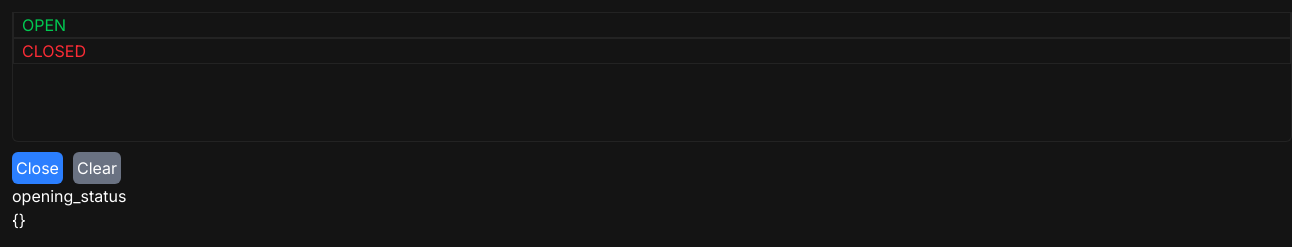
Test: OpeningStatusFilter › should add and remove selected opening status
This screenshot has width=1292, height=247.
Click the text "OPEN". click: click(44, 25)
box: x1=22 y1=13 x2=66 y2=37
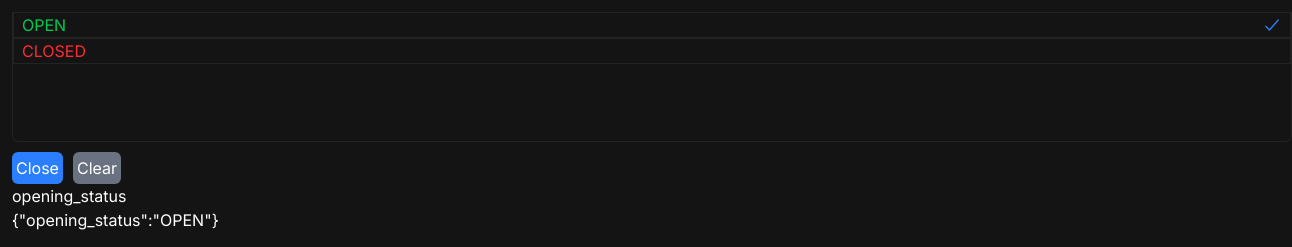
Expected: the text with test id "selected-filters" shows "\"opening_status\":\"OPEN\"", x1=12 y1=210 x2=218 y2=230
Click the text "OPEN". click: click(44, 25)
box: x1=22 y1=13 x2=66 y2=37
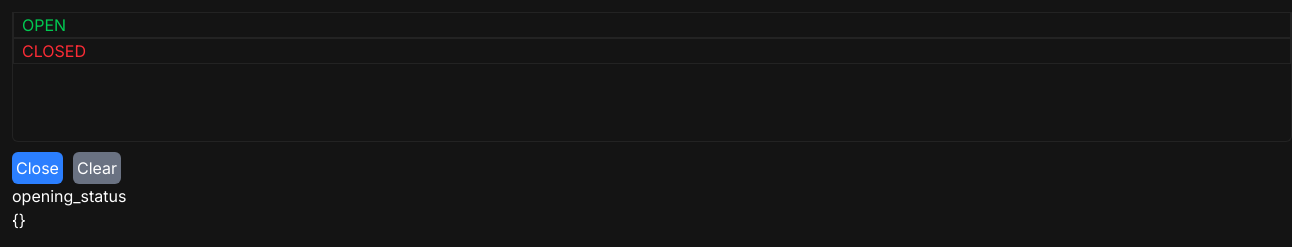
Expected: the text with test id "selected-filters" reads "{}", x1=12 y1=210 x2=26 y2=230
